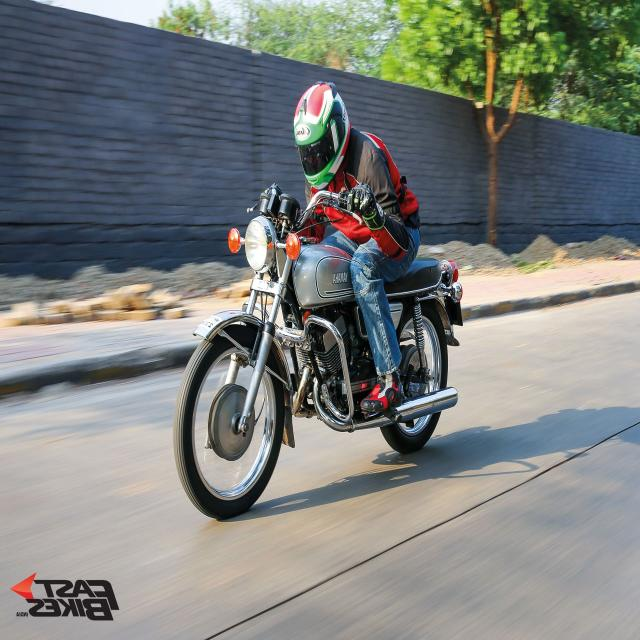motorcycle: (174, 82, 462, 519)
